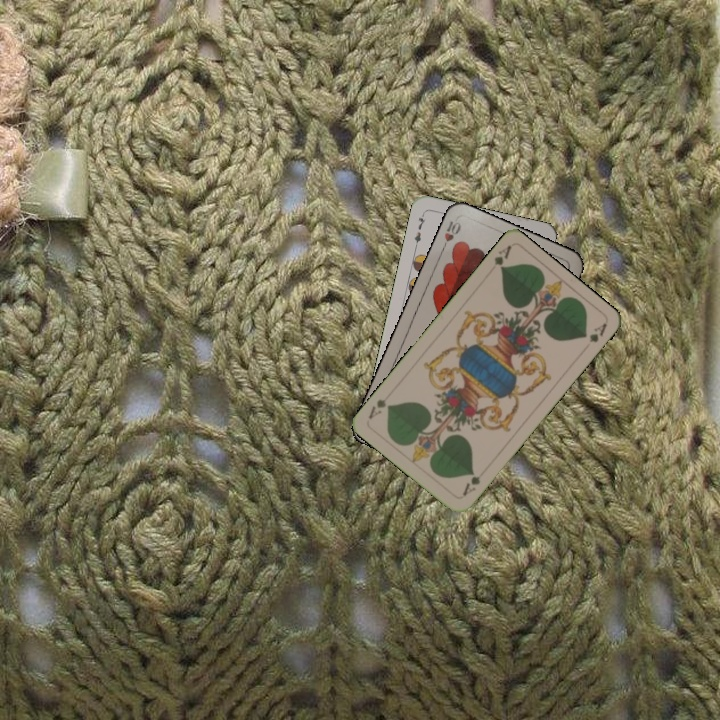E7: (410, 210, 428, 250)
GA: (458, 468, 483, 499), (490, 242, 514, 272)
H10: (437, 217, 464, 254)
